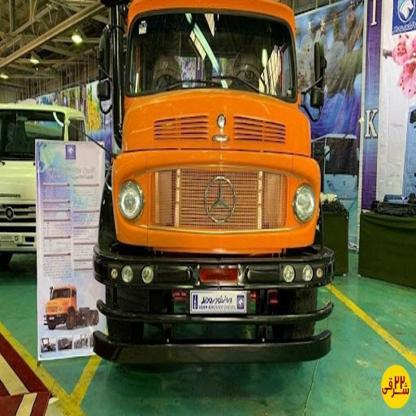Car: (0, 108, 75, 259)
Truck: (103, 4, 346, 374)
